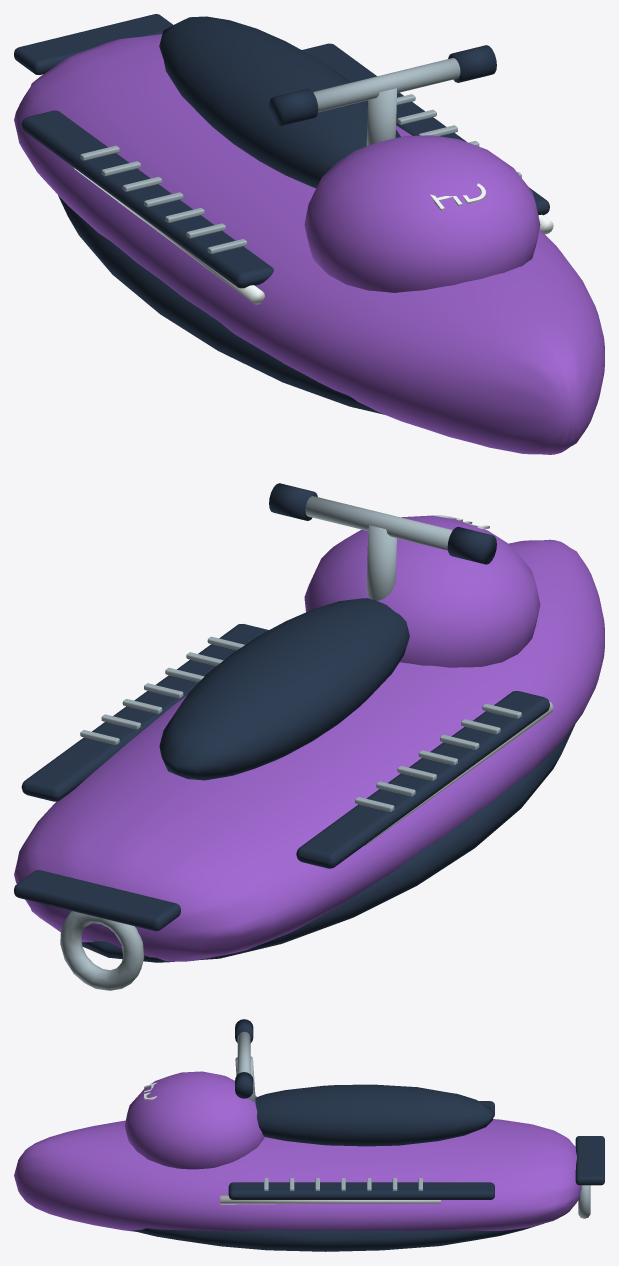
Rendered from 03_Leviathan_Power_LOD1.glb.
3 renders of one model, top to bottom at view 1: azimuth 30°, elevation 25°; view 2: azimuth 150°, elevation 25°; view 3: azimuth 270°, elevation 25°, orthographic. The views are drawn at different scales.
Visible parts, largest first — view 1: Sculpted hull.002, Front cowl.002, Saddle.002, Foot deck.004, Lower hull.002, Rear step.002, Handlebar.002, Foot deck.005, Steering column.002, Grip.004, Grip.005, Side highlight.004; view 2: Sculpted hull.002, Saddle.002, Front cowl.002, Foot deck.004, Lower hull.002, Foot deck.005, Rear step.002, Jet outlet.002, Handlebar.002, Steering column.002, Grip.004, Grip.005 (+1 smaller); view 3: Sculpted hull.002, Saddle.002, Front cowl.002, Lower hull.002, Foot deck.005, Rear step.002, Side highlight.005, Handlebar.002, Grip.005, Jet outlet.002.
Part boxes in pixels (x1,y1,x2,y2): Sculpted hull.002: [14, 34, 604, 454]; Front cowl.002: [304, 135, 540, 292]; Saddle.002: [159, 16, 400, 188]; Foot deck.004: [21, 110, 273, 288]; Lower hull.002: [58, 195, 385, 414]; Rear step.002: [14, 14, 172, 74]; Handlebar.002: [313, 58, 460, 112]; Foot deck.005: [302, 43, 549, 215]; Steering column.002: [366, 88, 396, 146]; Grip.004: [269, 88, 318, 126]; Grip.005: [448, 45, 496, 82]; Side highlight.004: [73, 167, 264, 304]; Sculpted hull.002: [14, 539, 604, 961]; Saddle.002: [159, 598, 409, 780]; Front cowl.002: [304, 515, 540, 667]; Foot deck.004: [296, 691, 549, 868]; Lower hull.002: [82, 724, 575, 962]; Foot deck.005: [21, 624, 268, 801]; Rear step.002: [14, 870, 180, 931]; Jet outlet.002: [60, 911, 144, 990]; Handlebar.002: [305, 496, 452, 550]; Steering column.002: [366, 525, 396, 600]; Grip.004: [447, 526, 496, 564]; Grip.005: [269, 483, 317, 520]; Sculpted hull.002: [14, 1119, 581, 1231]; Saddle.002: [255, 1084, 494, 1146]; Front cowl.002: [124, 1071, 264, 1169]; Lower hull.002: [131, 1223, 543, 1251]; Foot deck.005: [228, 1182, 494, 1199]; Rear step.002: [575, 1136, 604, 1185]; Side highlight.005: [220, 1195, 440, 1204]; Handlebar.002: [237, 1031, 250, 1073]; Grip.005: [235, 1072, 253, 1098]; Jet outlet.002: [578, 1185, 590, 1218].
Bounding box in the file's own units: 1.25 × 1.05 × 3.21.
